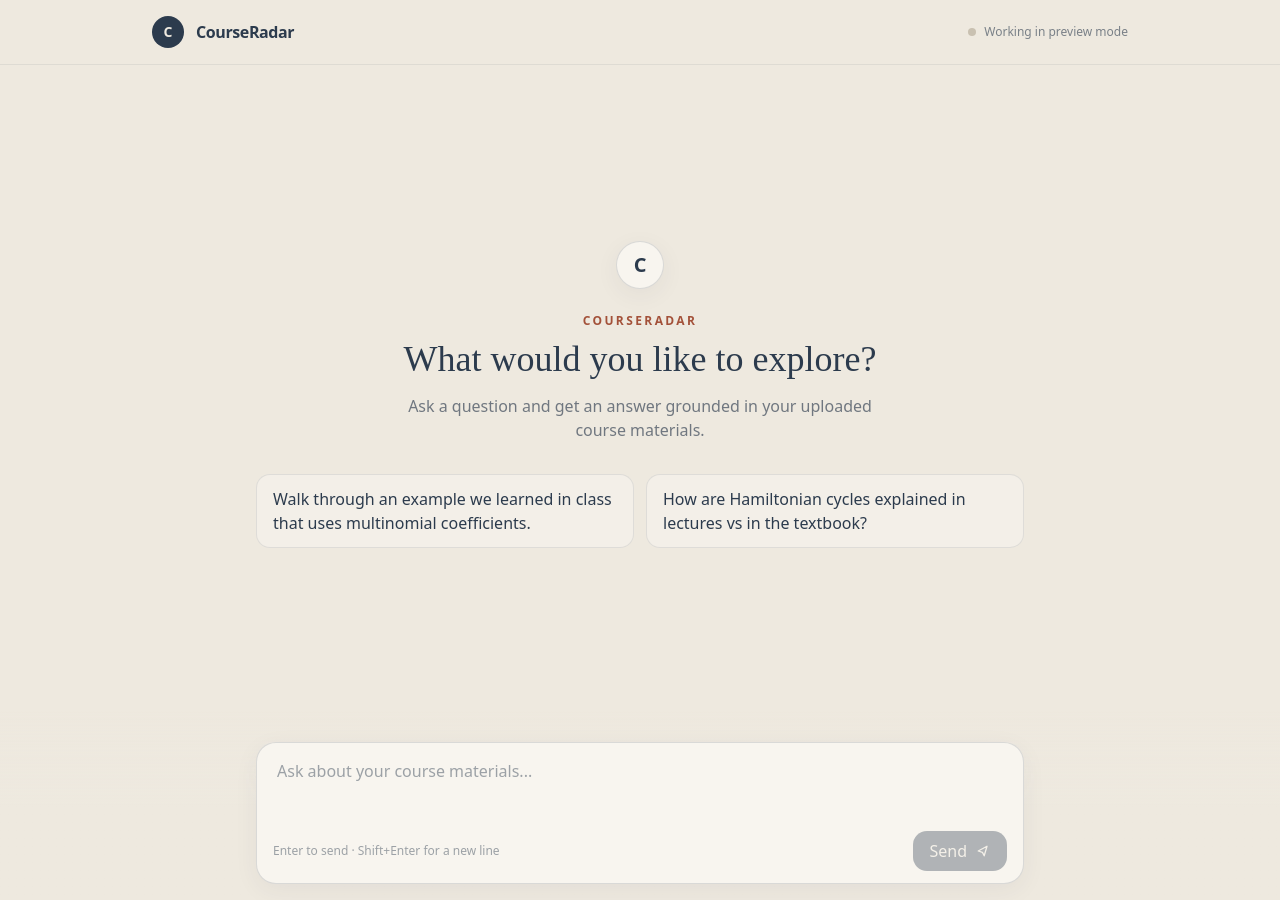
Test: App › populates the composer from a suggestion without submitting it
The width and height of the screenshot is (1280, 900).
What coordinates should you click on to do the following:
click the button "Hamiltonian cycles explained"
I would click on:
 (835, 510)
Its box is [646, 474, 1024, 548].
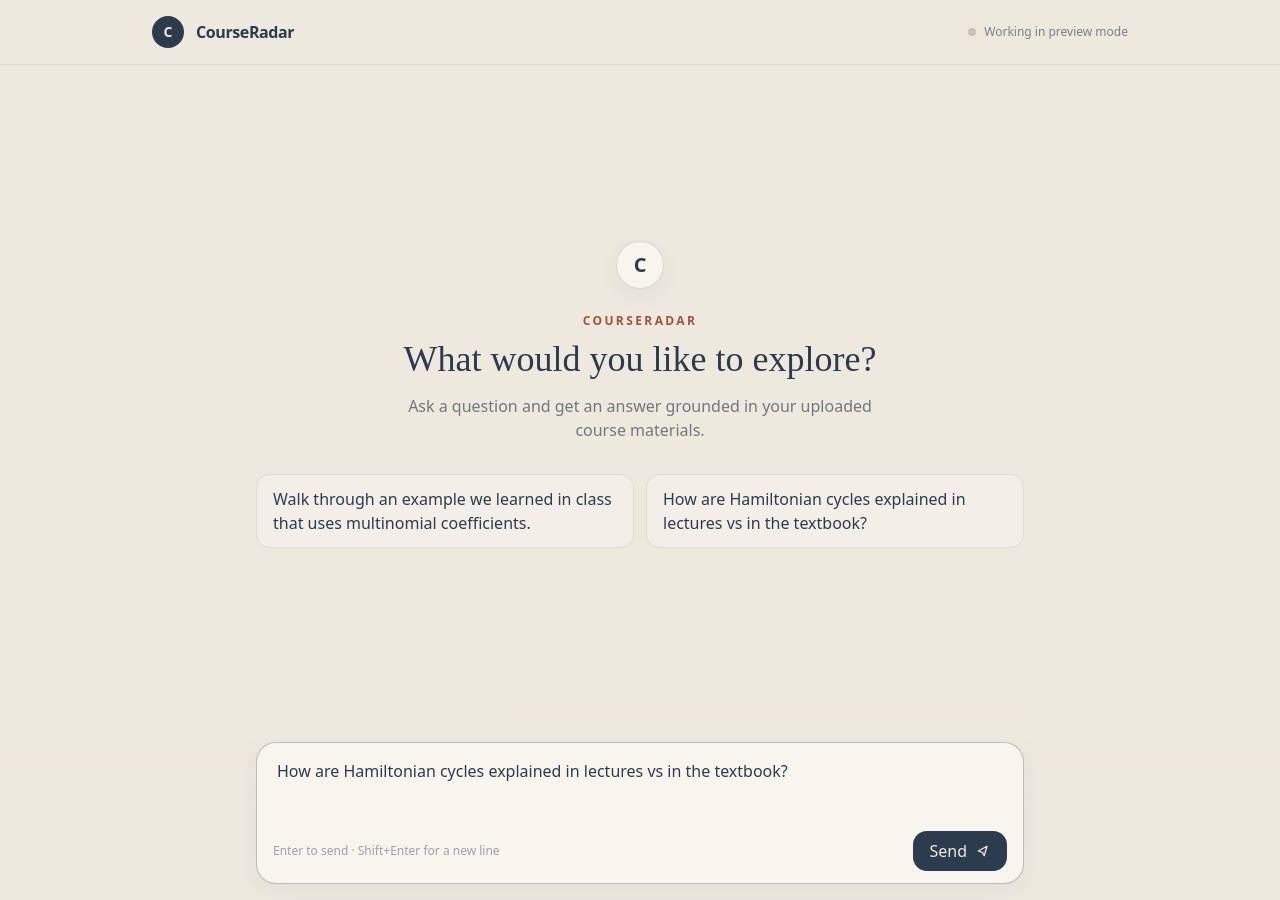
Expected: the text box named "Course question" holds "How are Hamiltonian cycles explained in lectures vs in the textbook?", [265, 751, 1015, 831]
